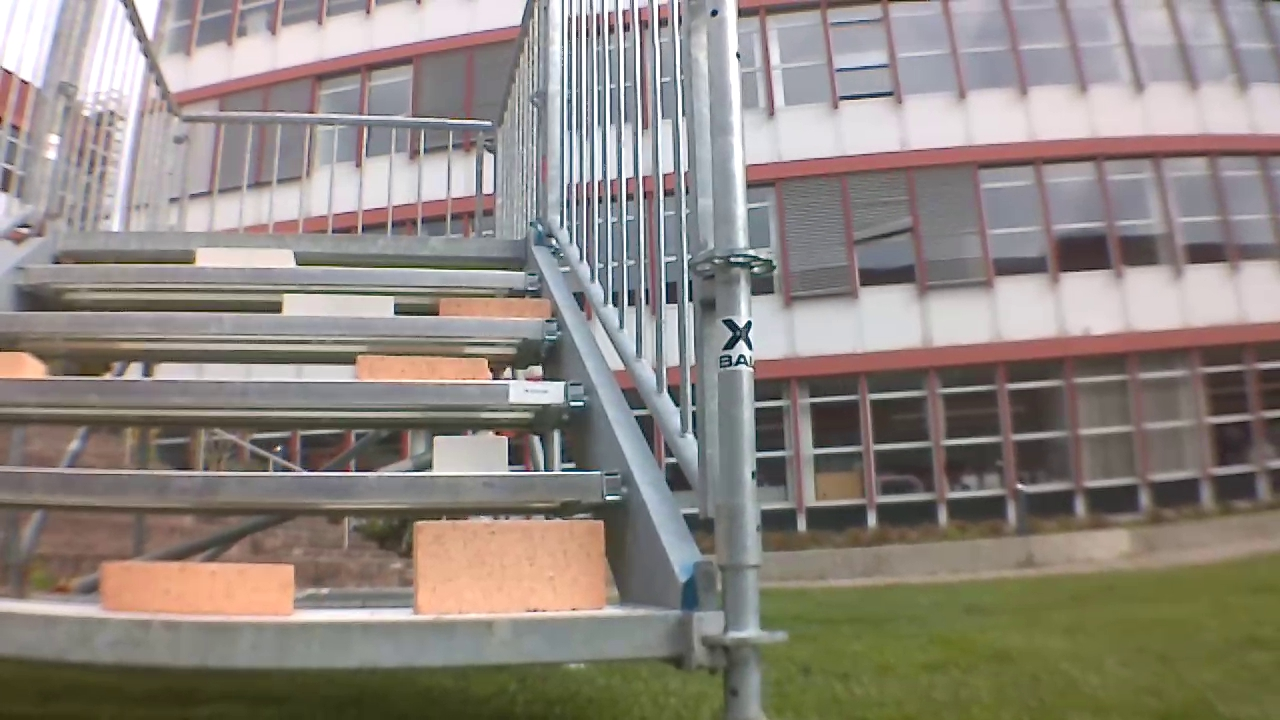brick: (408, 522, 612, 611), (101, 565, 296, 606), (354, 353, 483, 387), (433, 295, 558, 321), (194, 242, 302, 270), (433, 430, 512, 464), (278, 294, 400, 313)
edge: (0, 304, 564, 340), (0, 373, 589, 405), (5, 265, 542, 292), (7, 238, 528, 256)
stairs: (0, 0, 749, 698)
steps: (0, 238, 689, 658)
